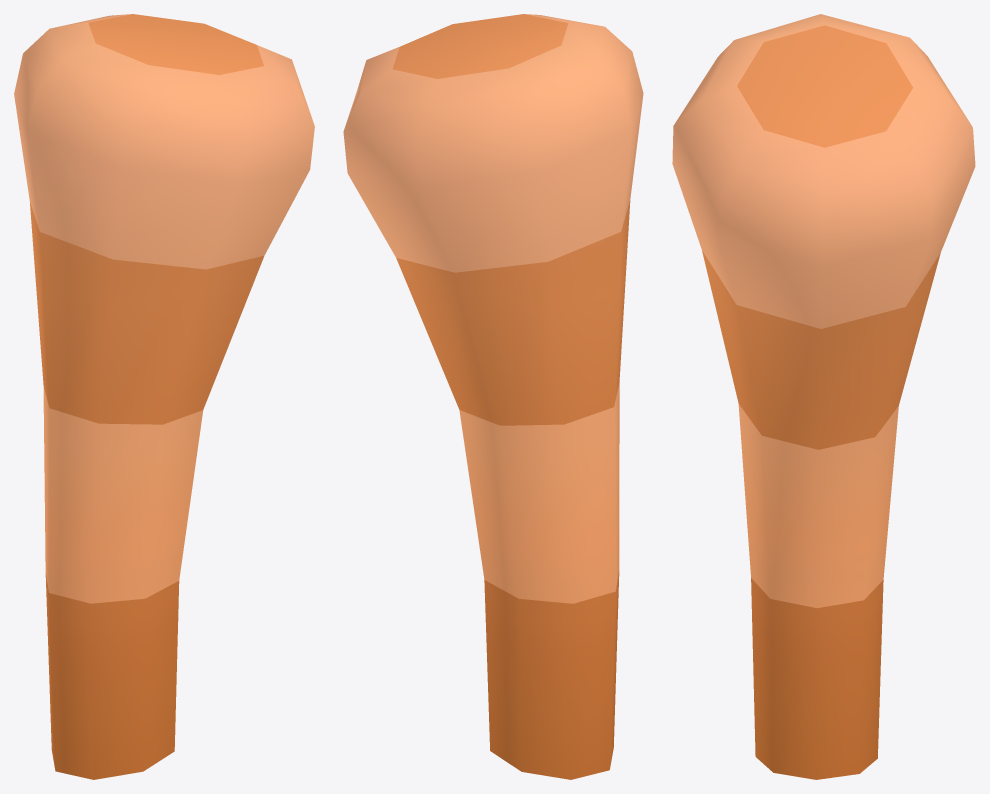
Rendered from FencePillar_01.glb.
The picture shows the model from 3 angles, left to right: view 1: azimuth 30°, elevation 25°; view 2: azimuth 150°, elevation 25°; view 3: azimuth 270°, elevation 25°; orthographic projection. The views are drawn at different scales.
Parts seen in each view (by area): view 1: FencePillar_01; view 2: FencePillar_01; view 3: FencePillar_01.
Part boxes in pixels (x1,y1,x2,y2): FencePillar_01: (14, 14, 314, 779); FencePillar_01: (343, 14, 643, 779); FencePillar_01: (672, 14, 975, 779).
Size of the model in its own units: 0.6479 by 1.61 by 0.603.
1 material, 1 textured.
